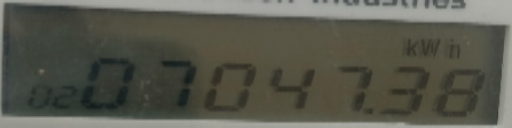0: (63, 50, 144, 128), (202, 60, 270, 121)
3: (383, 58, 436, 117)
4: (265, 60, 322, 125)
7: (150, 50, 209, 117), (335, 59, 368, 125)
8: (429, 65, 490, 121)
d: (364, 105, 377, 122)
